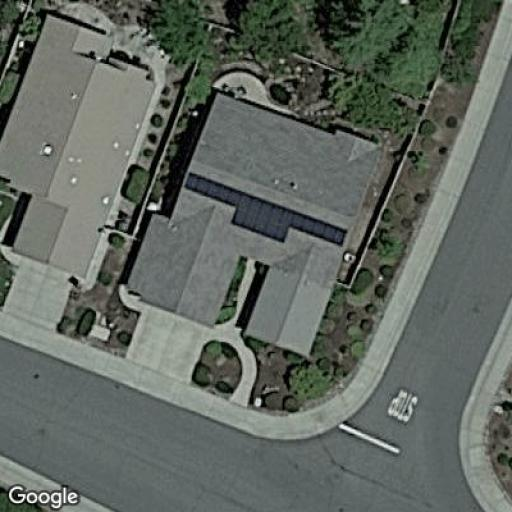solar-panel: (183, 171, 348, 250)
